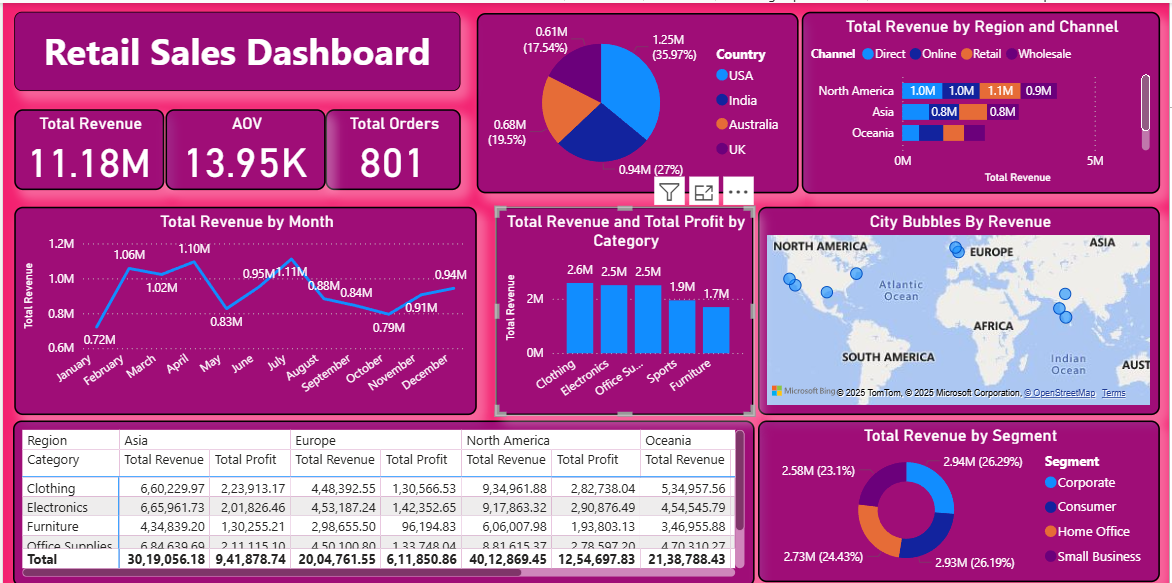

The page's visual inventory and layout, read from the dashboard file:
{"tool":"powerbi","page":{"name":"Page 1","canvas":[1200,600],"ordinal":0},"visuals":[{"type":"card","title":"Total Revenue","fields":{"Values":["DataDictionary.Total Revenue"]},"box":[11.7,109,154.4,83],"z":0},{"type":"card","title":"Total Orders","fields":{"Values":["DataDictionary.Total Orders"]},"box":[332.1,109,138.8,83],"z":1000},{"type":"card","title":"AOV","fields":{"Values":["DataDictionary.AOV"]},"box":[167.4,109,164.8,83],"z":2000},{"type":"pieChart","fields":{"Y":["DataDictionary.Total Profit"],"Category":["DimGeo.Country"]},"box":[487.8,10.4,330.8,185.5],"z":3000},{"type":"lineChart","fields":{"Y":["DataDictionary.Total Revenue"],"Category":["DimDate.YearMonth.Variation.Date Hierarchy.Month"]},"box":[11.7,210.2,476.1,214.1],"z":4000},{"type":"clusteredColumnChart","fields":{"Y":["DataDictionary.Total Revenue"],"Category":["DimProduct.Category"]},"box":[507.2,210.2,265.9,214.1],"z":5000},{"type":"barChart","fields":{"Category":["DimGeo.Region"],"Series":["FactSales.Channel"],"Y":["DataDictionary.Total Revenue"]},"box":[822.5,9.1,368.4,186.8],"z":6000},{"type":"map","title":"City Bubbles By Revenue","fields":{"Size":["DataDictionary.Total Revenue"],"Category":["DimGeo.City"],"Y":["Avg(DimGeo.Latitude)"],"X":["Avg(DimGeo.Longitude)"]},"box":[777.1,210.2,413.8,214.1],"z":7000},{"type":"pivotTable","fields":{"Rows":["DimProduct.Category"],"Columns":["DimGeo.Region"],"Values":["DataDictionary.Total Revenue","DataDictionary.Total Profit"]},"box":[10.4,429.4,762.8,171.2],"z":8000},{"type":"donutChart","fields":{"Category":["DimCustomer.Segment"],"Y":["DataDictionary.Total Revenue"]},"box":[777.1,429.4,413.8,166.1],"z":9000},{"type":"textbox","box":[11.7,9.1,459.2,81.7],"z":10000}]}

Visuals, with their boxes in screenshot pixels (x1, y1, x2, y2), scaled from the page's 1200x600 canvas onto the 1172x583 screenshot:
"Total Revenue" card: l=11, t=106, r=162, b=187
"Total Orders" card: l=324, t=106, r=460, b=187
"AOV" card: l=163, t=106, r=324, b=187
pieChart - DataDictionary.Total Profit x DimGeo.Country: l=476, t=10, r=799, b=190
lineChart - DataDictionary.Total Revenue x DimDate.YearMonth.Variation.Date Hierarchy.Month: l=11, t=204, r=476, b=412
clusteredColumnChart - DataDictionary.Total Revenue x DimProduct.Category: l=495, t=204, r=755, b=412
barChart - DimGeo.Region x FactSales.Channel: l=803, t=9, r=1163, b=190
"City Bubbles By Revenue" map: l=759, t=204, r=1163, b=412
pivotTable - DimProduct.Category x DimGeo.Region: l=10, t=417, r=755, b=582
donutChart - DimCustomer.Segment x DataDictionary.Total Revenue: l=759, t=417, r=1163, b=579
textbox: l=11, t=9, r=460, b=88
